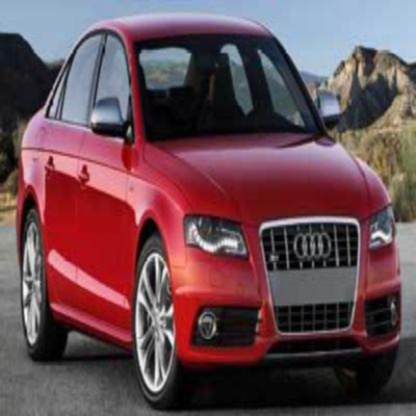Vehicle: (14, 10, 410, 412)
